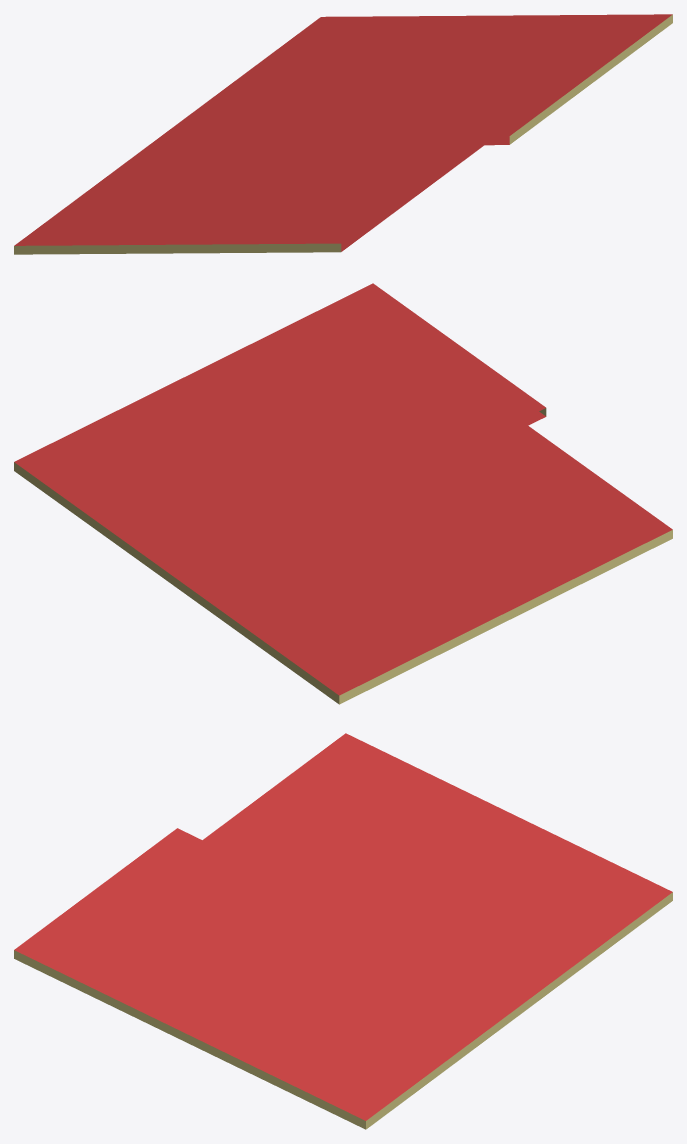
The picture shows the model from 3 angles, top to bottom: view 1: azimuth 90°, elevation 25°; view 2: azimuth 150°, elevation 25°; view 3: azimuth 270°, elevation 25°; orthographic projection. The views are drawn at different scales.
Size of the model in its own units: 7.56 by 6.85 by 1.1.
